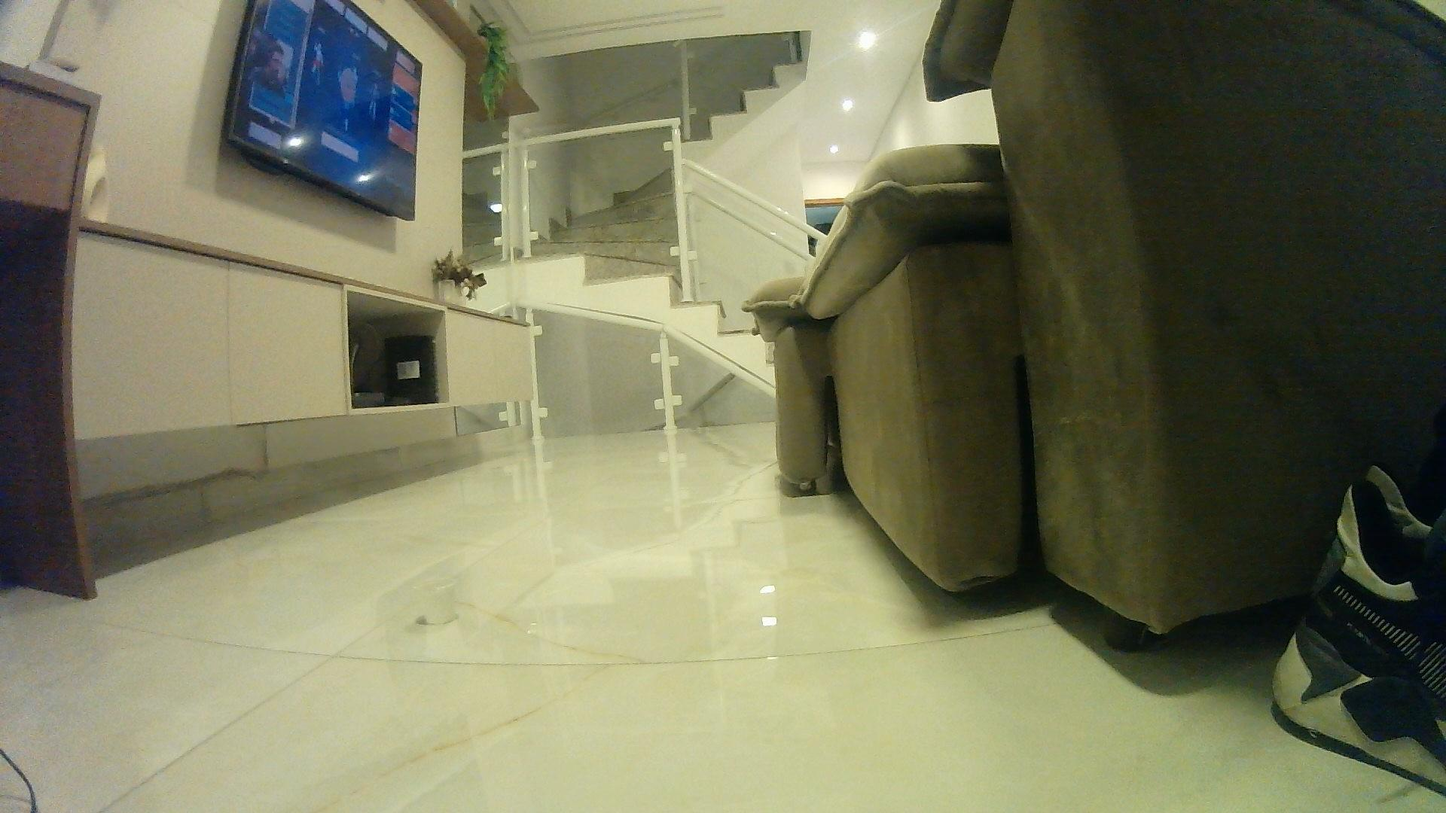planta: (413, 574, 459, 628)
